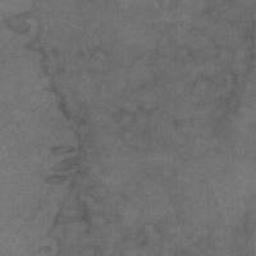Water spot: (3, 0, 256, 256)
